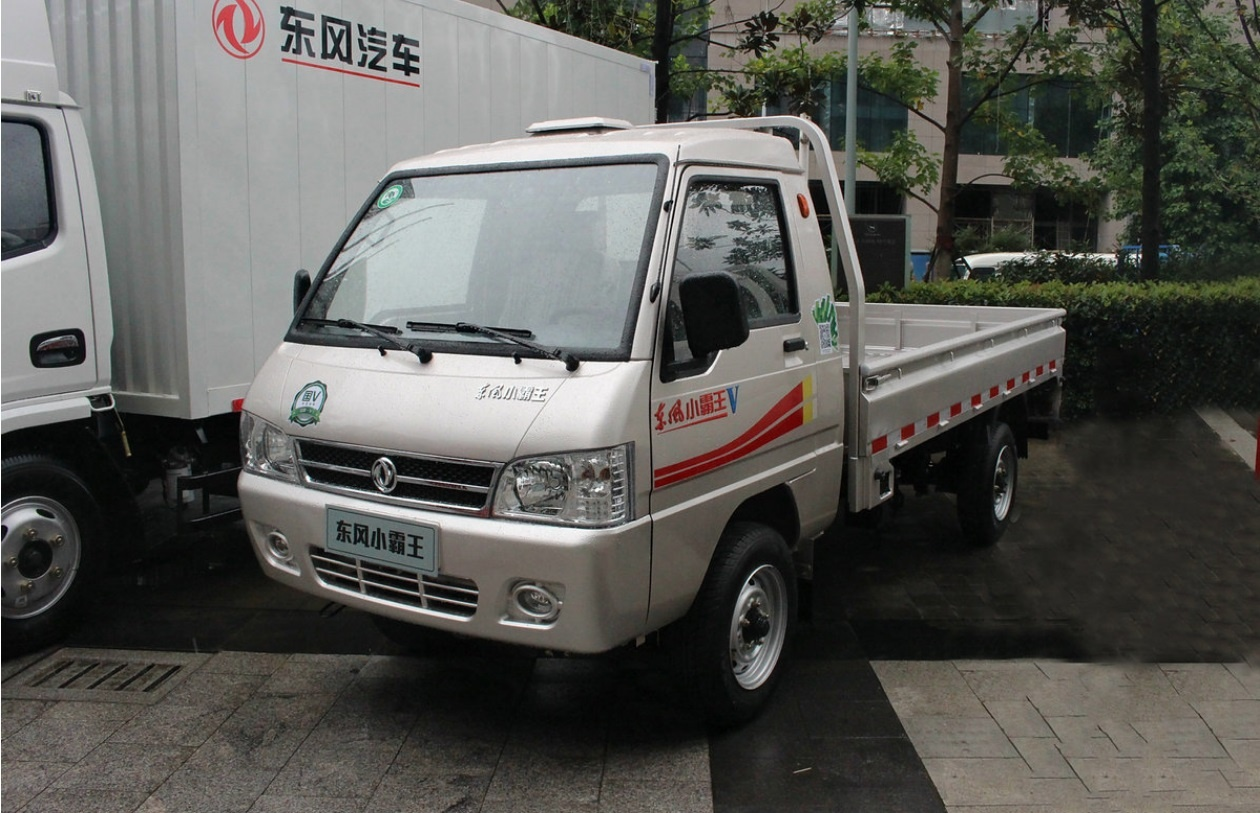truck: (259, 112, 1087, 711)
